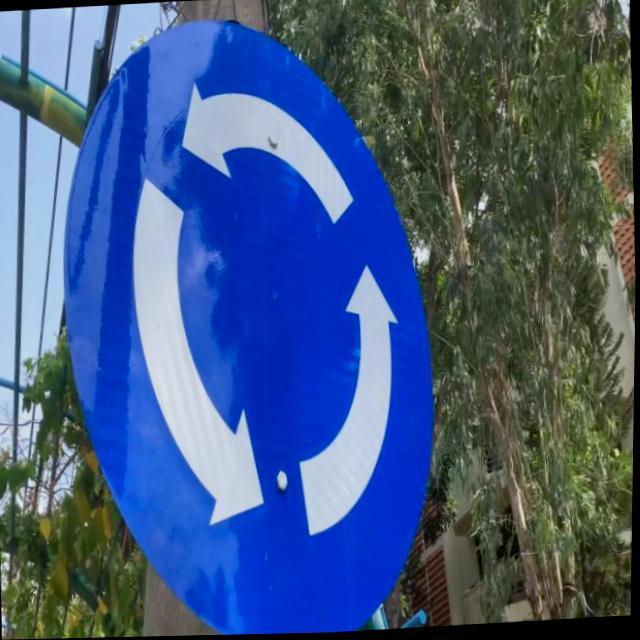Noi giao nhau chay theo vong xuyen: (48, 0, 455, 639)
